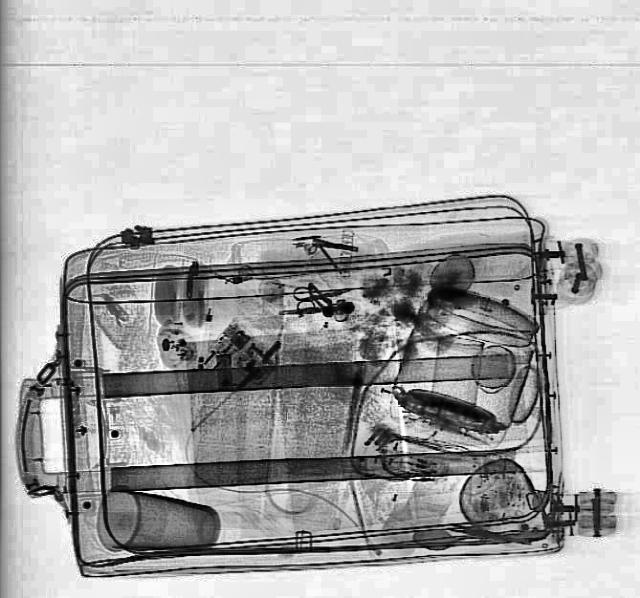Scissors: (288, 274, 358, 316)
